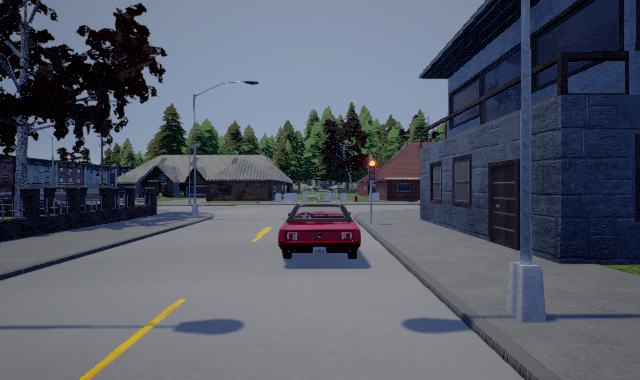traffic_light: (367, 157, 376, 180)
vehicle: (278, 204, 361, 259)
